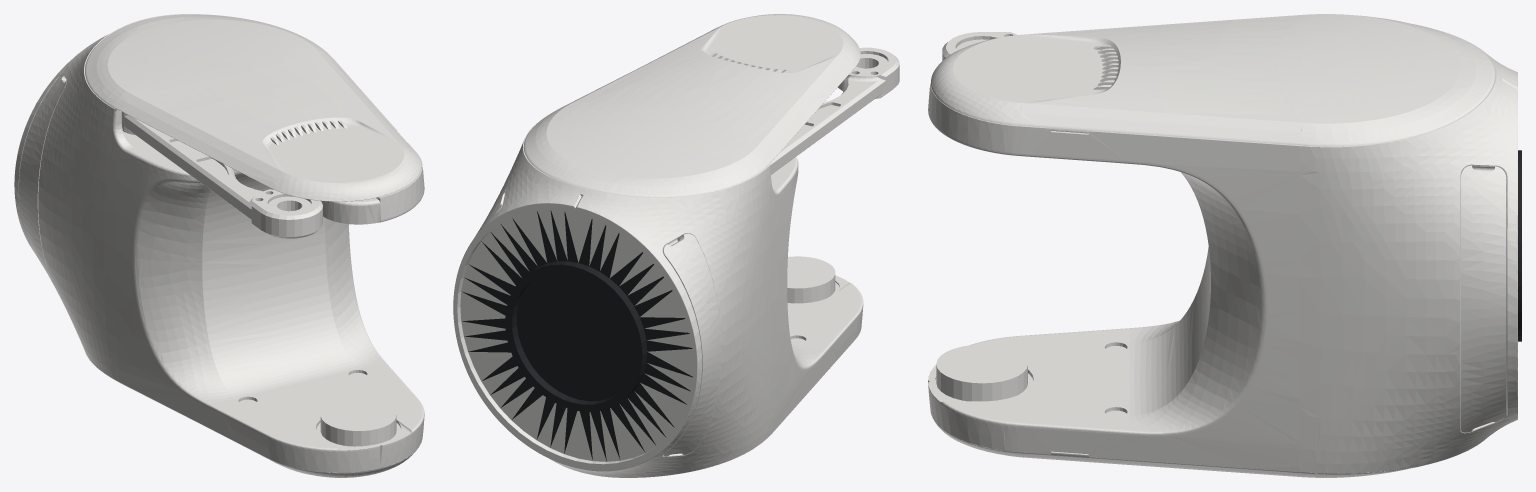
File: AR5_5_08L_W4C4A6_link5_vis.obj
The picture shows the model from 3 angles, left to right: view 1: azimuth 30°, elevation 25°; view 2: azimuth 150°, elevation 25°; view 3: azimuth 270°, elevation 25°; orthographic projection. The views are drawn at different scales.
Visible parts, largest first — view 1: AR5_5_08L_W4C4A6_link5; view 2: AR5_5_08L_W4C4A6_link5; view 3: AR5_5_08L_W4C4A6_link5.
Boxes of the visible parts, left/top/right/bottom form: AR5_5_08L_W4C4A6_link5: left=14, top=14, right=424, bottom=477; AR5_5_08L_W4C4A6_link5: left=453, top=14, right=899, bottom=477; AR5_5_08L_W4C4A6_link5: left=928, top=14, right=1521, bottom=477.
Bounding box in the file's own units: 0.0892 × 0.1067 × 0.1551.
Materials: 1 (1 with a texture image).
